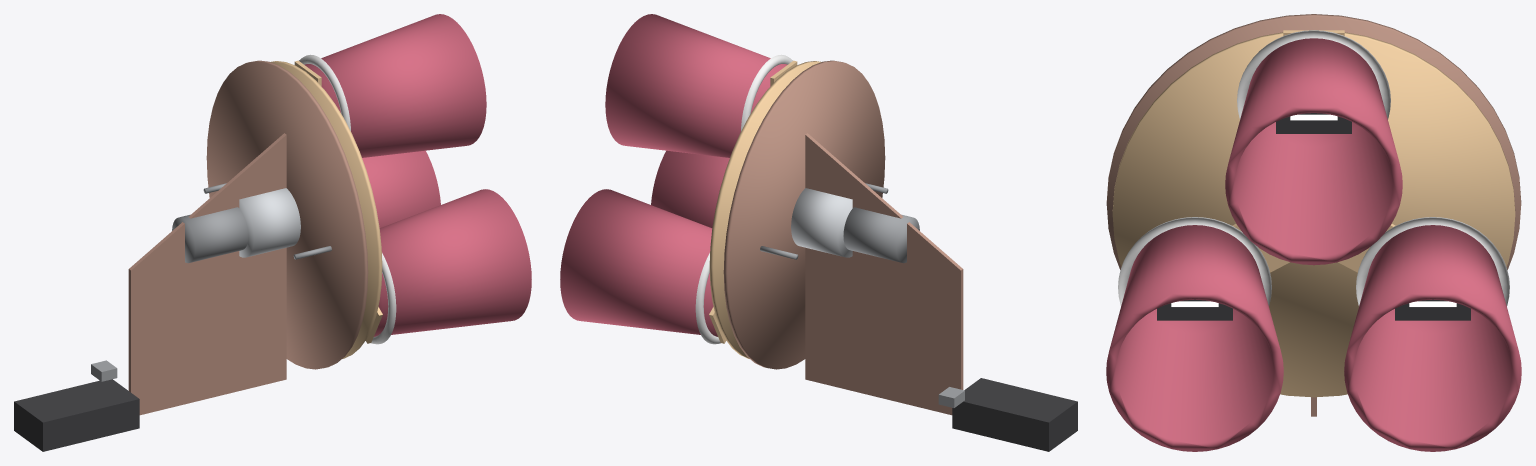
File: turntable.glb
The picture shows the model from 3 angles, left to right: view 1: azimuth 30°, elevation 25°; view 2: azimuth 150°, elevation 25°; view 3: azimuth 270°, elevation 25°; orthographic projection. The views are drawn at different scales.
Parts seen in each view (by area): view 1: TT_BaseB2, TT_BaseD1, TT_ROTOR_Cup3, TT_ROTOR_Cup1, TT_BatteryBox, TT_ROTOR_DiscA2, TT_ROTOR_Cup2, TT_MotorGear, TT_MotorBody, TT_ROTOR_Cradle3, TT_ROTOR_Cradle1; view 2: TT_BaseB2, TT_BaseD1, TT_ROTOR_Cup2, TT_ROTOR_Cup1, TT_BatteryBox, TT_ROTOR_DiscA2, TT_ROTOR_Cup3, TT_MotorGear, TT_MotorBody, TT_ROTOR_Cradle2, TT_ROTOR_Cradle1; view 3: TT_ROTOR_DiscA2, TT_ROTOR_Cup2, TT_ROTOR_Cup3, TT_ROTOR_Cup1, TT_BaseD1, TT_ROTOR_Cradle1, TT_ROTOR_Cradle2, TT_ROTOR_Cradle3, TT_ROTOR_Tag2_fB, TT_ROTOR_Tag3_fB, TT_ROTOR_Tag1_fB.
Part boxes in pixels (<box>): TT_BaseB2: <box>128,133,286,415</box>; TT_BaseD1: <box>206,60,368,369</box>; TT_ROTOR_Cup3: <box>374,189,531,336</box>; TT_ROTOR_Cup1: <box>304,14,486,157</box>; TT_BatteryBox: <box>14,379,139,451</box>; TT_ROTOR_DiscA2: <box>270,61,382,358</box>; TT_ROTOR_Cup2: <box>362,150,440,227</box>; TT_MotorGear: <box>239,188,300,257</box>; TT_MotorBody: <box>172,207,248,263</box>; TT_ROTOR_Cradle3: <box>371,253,396,344</box>; TT_ROTOR_Cradle1: <box>299,54,350,131</box>; TT_BaseB2: <box>805,133,963,415</box>; TT_BaseD1: <box>723,60,885,369</box>; TT_ROTOR_Cup2: <box>560,189,717,336</box>; TT_ROTOR_Cup1: <box>605,14,787,157</box>; TT_BatteryBox: <box>952,378,1077,451</box>; TT_ROTOR_DiscA2: <box>709,61,821,358</box>; TT_ROTOR_Cup3: <box>651,150,729,227</box>; TT_MotorGear: <box>791,188,852,257</box>; TT_MotorBody: <box>843,207,919,263</box>; TT_ROTOR_Cradle2: <box>695,253,720,344</box>; TT_ROTOR_Cradle1: <box>741,54,792,131</box>; TT_ROTOR_DiscA2: <box>1112,30,1515,397</box>; TT_ROTOR_Cup2: <box>1344,225,1521,451</box>; TT_ROTOR_Cup3: <box>1106,225,1283,451</box>; TT_ROTOR_Cup1: <box>1225,38,1402,265</box>; TT_BaseD1: <box>1106,14,1521,269</box>; TT_ROTOR_Cradle1: <box>1237,30,1390,119</box>; TT_ROTOR_Cradle2: <box>1356,217,1509,305</box>; TT_ROTOR_Cradle3: <box>1118,217,1271,305</box>; TT_ROTOR_Tag2_fB: <box>1395,307,1470,320</box>; TT_ROTOR_Tag3_fB: <box>1157,307,1232,320</box>; TT_ROTOR_Tag1_fB: <box>1276,120,1351,133</box>.
Bounding box in the file's own units: 0.272 × 0.1955 × 0.1755.
